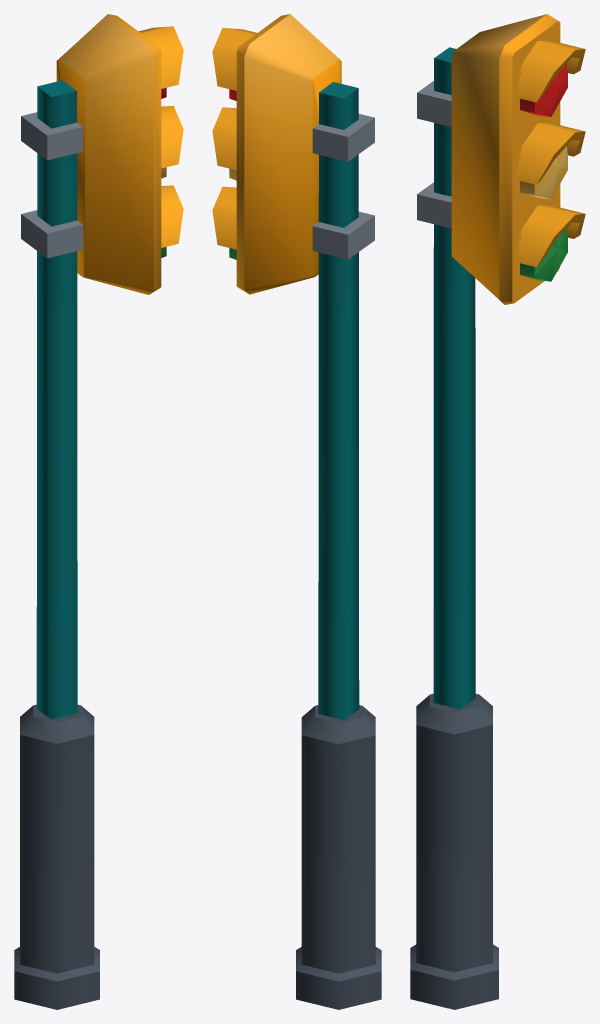
File: Lights_4_C.fbx
3 renders of one model, left to right at view 1: azimuth 30°, elevation 25°; view 2: azimuth 150°, elevation 25°; view 3: azimuth 330°, elevation 25°, orthographic. The views are drawn at different scales.
Parts seen in each view (by area): view 1: Lights_4_C; view 2: Lights_4_C; view 3: Lights_4_C.
Boxes of the visible parts, x1,y1,x2,y2 form: Lights_4_C: [14, 14, 183, 1009]; Lights_4_C: [212, 14, 381, 1009]; Lights_4_C: [410, 14, 585, 1009].
Size of the model in its own units: 59.13 by 334 by 33.02.
